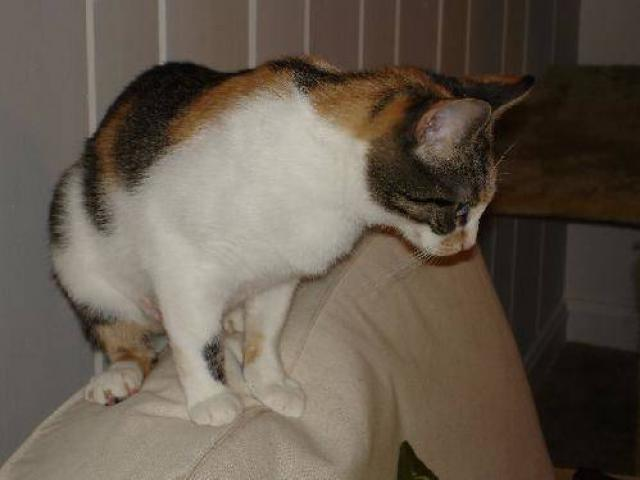cat: (49, 55, 564, 441)
